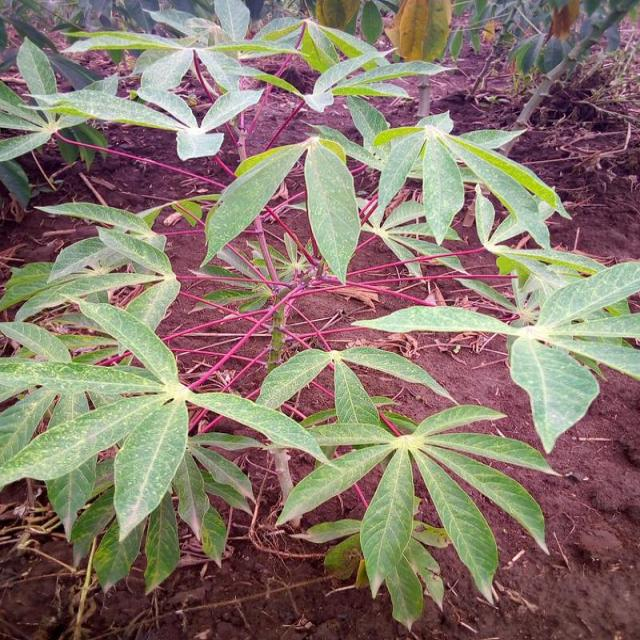cassava leaf: (0, 2, 638, 629), (508, 334, 599, 453), (302, 135, 361, 284)
